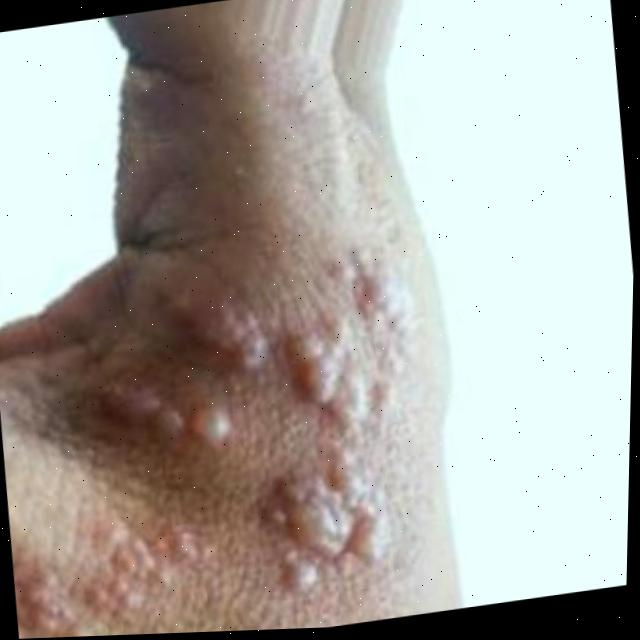Shingles: (243, 237, 444, 599), (7, 504, 229, 639), (73, 365, 240, 476), (151, 273, 277, 387)
